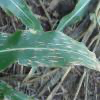Corn leaf blight: (1, 31, 100, 72)
